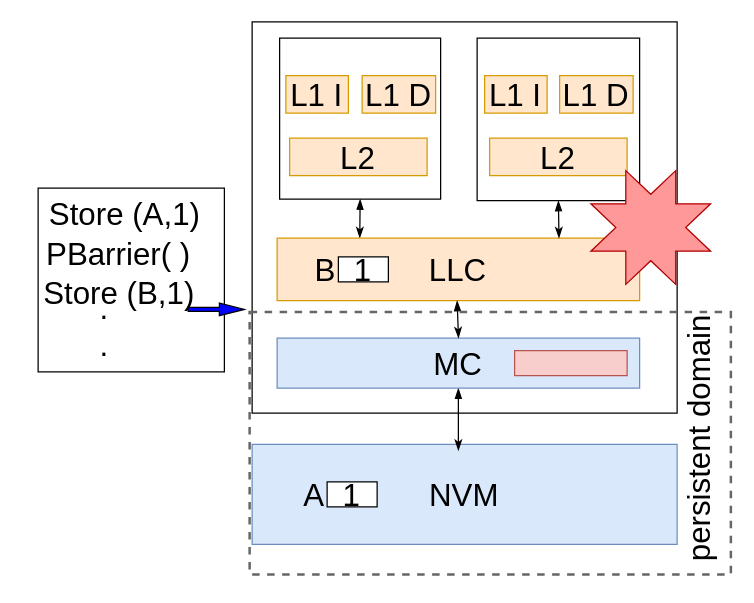
This 754x603 diagram has some shape labels left out. Here are the shapes that lost their labels. From the top down, the centre of each, then its label:
At (x=650, y=226): "crash".
At (x=570, y=362): "WPQ".
